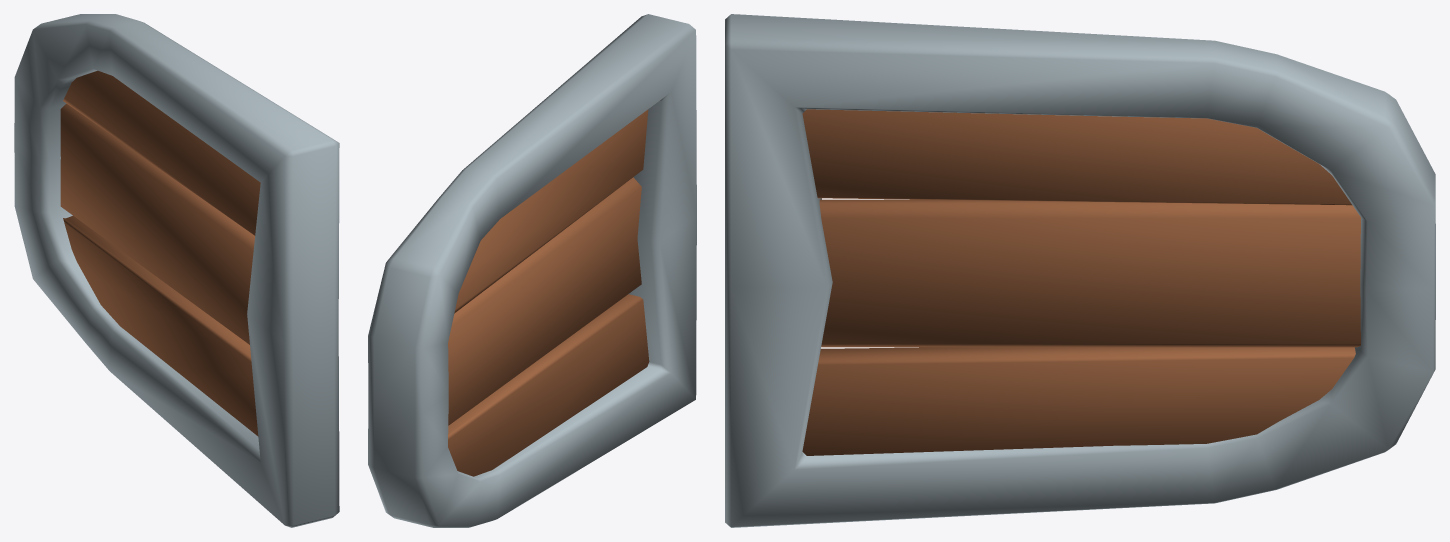
Rendered from shield2.glb.
The picture shows the model from 3 angles, left to right: view 1: azimuth 30°, elevation 25°; view 2: azimuth 150°, elevation 25°; view 3: azimuth 270°, elevation 25°; orthographic projection. The views are drawn at different scales.
Visible parts, largest first — view 1: shield2; view 2: shield2; view 3: shield2.
Boxes of the visible parts, x1,y1,x2,y2 form: shield2: [14, 14, 339, 527]; shield2: [368, 14, 696, 527]; shield2: [725, 14, 1435, 527].
Bounding box in the file's own units: 0.1882 × 1.19 × 1.57.
